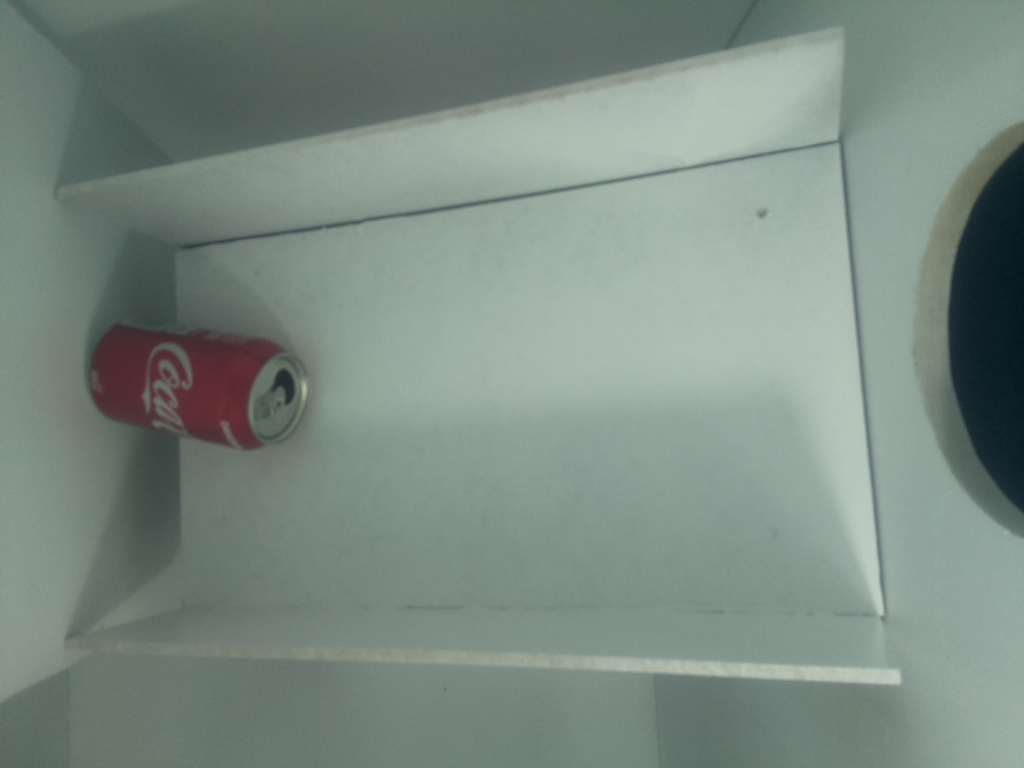kaleng: (86, 316, 309, 459)
